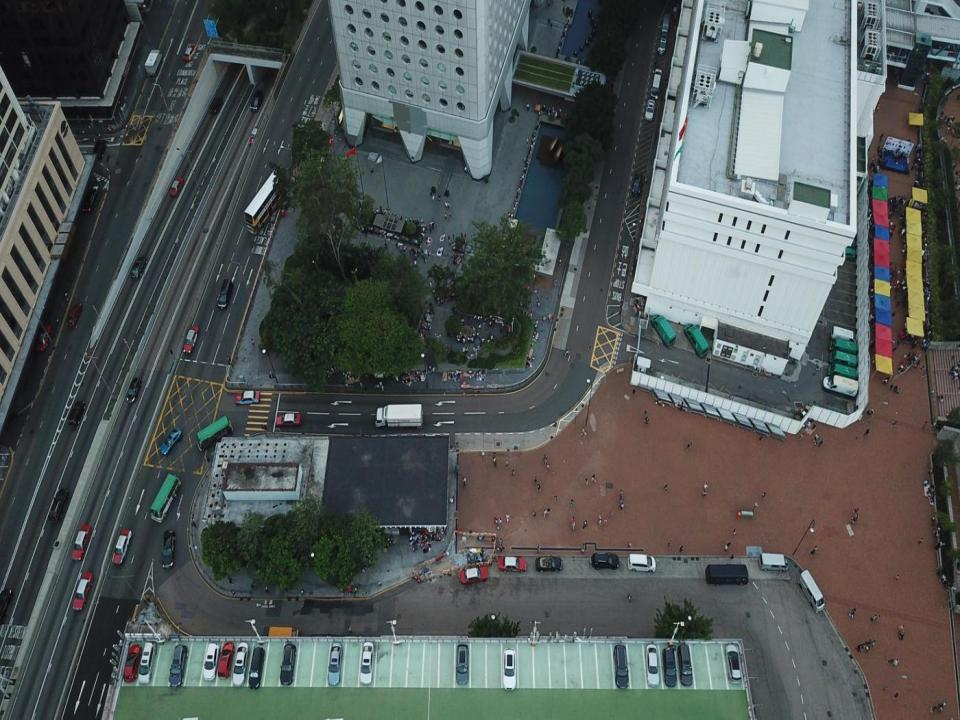bus: (243, 166, 292, 235), (150, 473, 181, 524), (195, 415, 234, 450)
car: (169, 644, 188, 689), (138, 640, 156, 684), (72, 572, 92, 610), (327, 642, 343, 686), (72, 525, 91, 562), (48, 489, 69, 522), (723, 644, 740, 684), (233, 642, 248, 686), (614, 645, 629, 689), (280, 644, 296, 685), (112, 529, 131, 563), (360, 640, 374, 686), (218, 642, 235, 679), (124, 644, 140, 683), (203, 642, 219, 681), (646, 643, 660, 687), (662, 647, 677, 688), (678, 643, 692, 686), (160, 428, 182, 455), (502, 648, 516, 690), (627, 554, 656, 573), (68, 399, 85, 430), (456, 644, 469, 684), (590, 553, 620, 570), (35, 323, 52, 352), (162, 529, 174, 570), (183, 326, 199, 356), (498, 556, 526, 572), (125, 377, 142, 403), (66, 302, 82, 328), (536, 556, 562, 572), (0, 589, 12, 623), (461, 567, 487, 582), (235, 390, 260, 405), (130, 256, 147, 278), (650, 68, 662, 99), (275, 412, 300, 426), (81, 189, 95, 212), (93, 140, 108, 161), (630, 173, 642, 197), (170, 178, 184, 197), (657, 32, 667, 55), (183, 44, 196, 61), (209, 97, 222, 113), (645, 100, 654, 121), (249, 127, 258, 145)
truck: (377, 405, 423, 429)
van: (797, 569, 825, 613), (706, 563, 748, 585), (684, 323, 709, 359), (652, 314, 676, 348), (823, 374, 858, 397), (759, 553, 789, 573), (250, 647, 264, 689), (261, 625, 300, 640), (217, 279, 234, 309), (830, 325, 856, 343), (830, 338, 857, 355), (829, 364, 858, 378), (830, 351, 856, 366), (250, 89, 263, 113), (834, 247, 856, 260), (838, 234, 856, 245), (662, 14, 670, 32)
